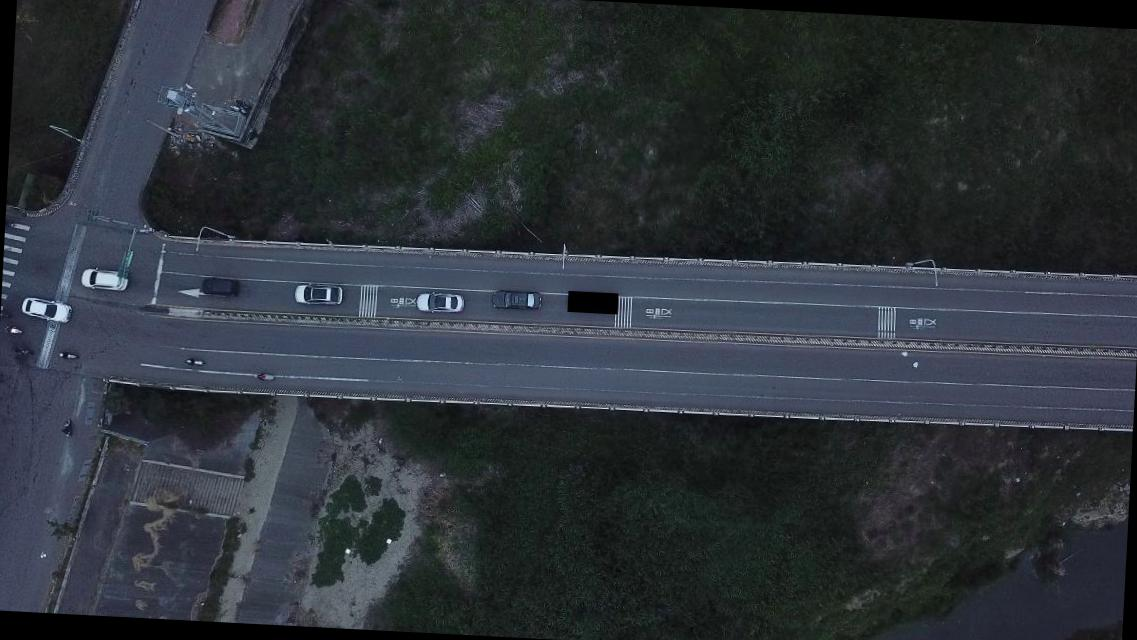vehicle: (20, 294, 72, 323), (414, 288, 463, 316), (292, 282, 342, 308), (80, 266, 128, 292), (491, 286, 542, 310), (198, 276, 238, 298)
